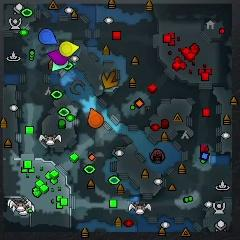p1: (40, 29, 56, 46)
p2: (50, 61, 71, 72)
p3: (49, 50, 69, 64)
p4: (59, 41, 79, 57)
p5: (87, 107, 104, 128)
x5: (100, 69, 118, 88)
